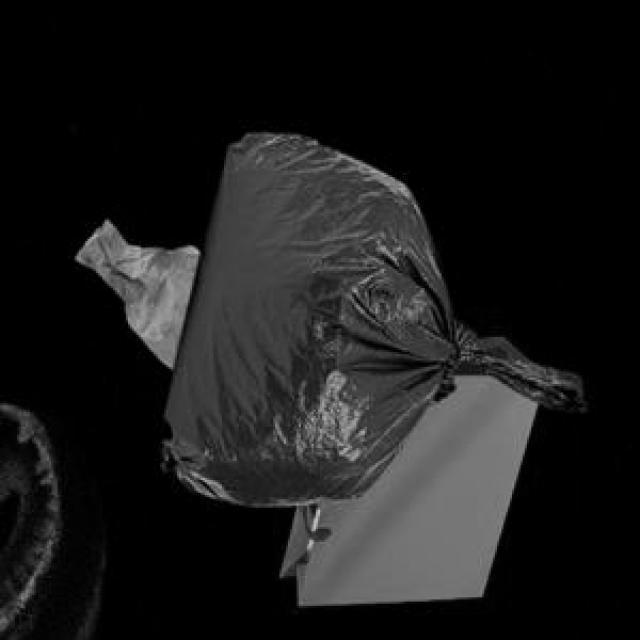miscellaneous trash: (158, 130, 582, 501)
paper: (275, 333, 533, 602), (73, 216, 196, 367)
